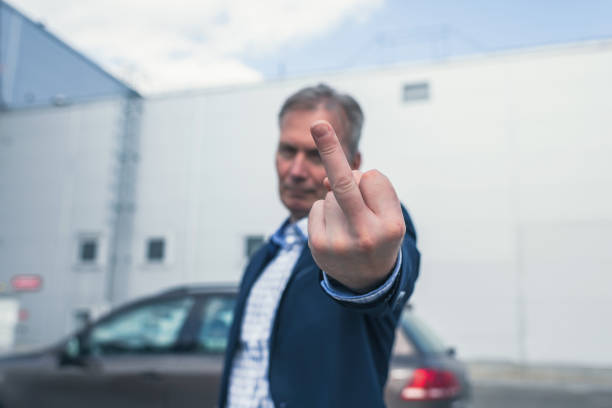insulting_gesture: (305, 121, 407, 284)
